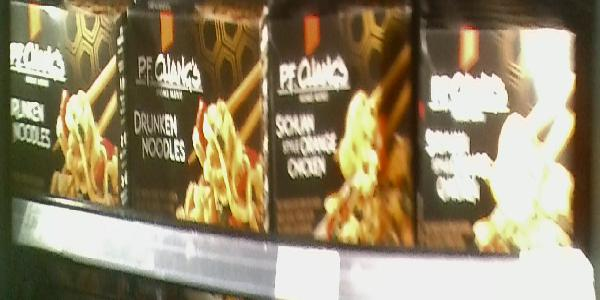pizza1: (269, 9, 418, 249), (418, 29, 574, 255), (124, 3, 273, 238), (3, 1, 127, 212)
